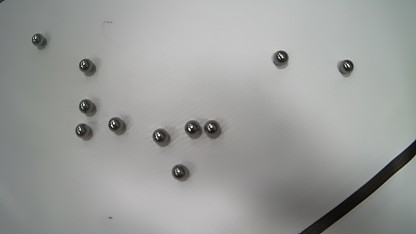ironball: (152, 128, 170, 146), (204, 119, 221, 138), (184, 120, 201, 138), (108, 117, 126, 134), (172, 164, 189, 181), (75, 123, 92, 140), (78, 99, 95, 114), (78, 58, 95, 73), (273, 50, 288, 66), (338, 59, 354, 74), (31, 33, 46, 47)
